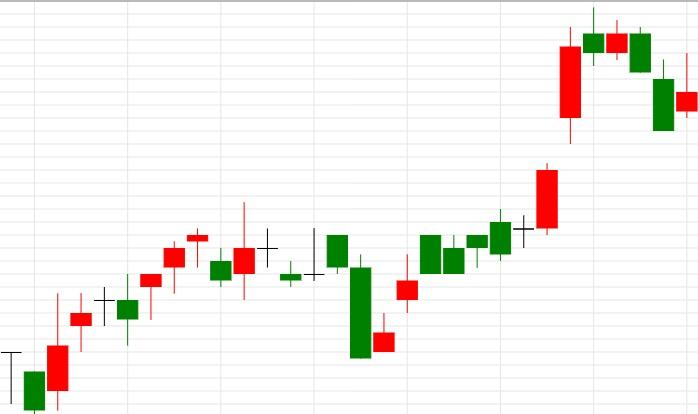evening_star_fall: (47, 228, 231, 411)
shooting_star_fall: (512, 7, 604, 248)
